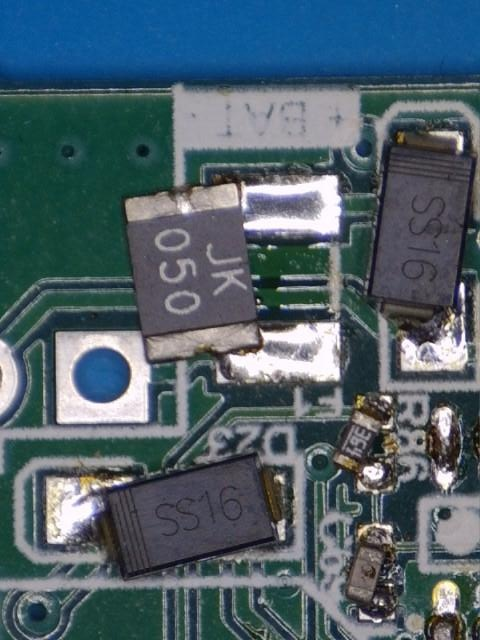pcb_defect: (121, 171, 343, 386), (41, 450, 287, 582), (54, 317, 344, 426), (366, 123, 477, 379), (330, 391, 398, 496), (344, 522, 397, 622)
